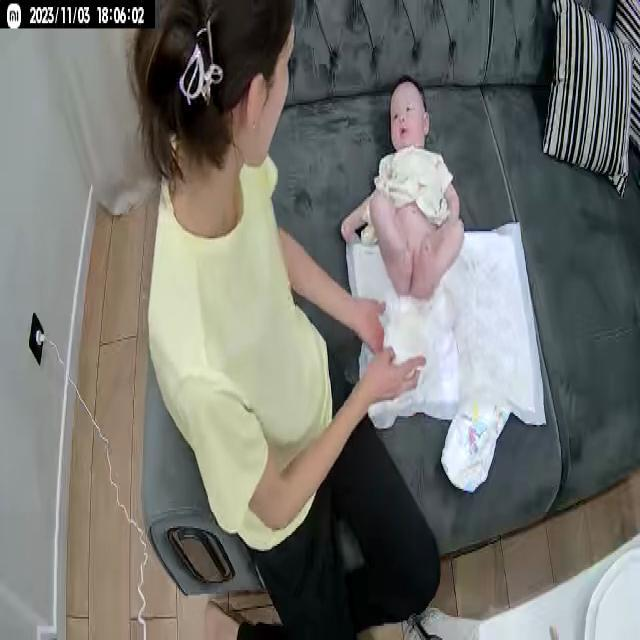baby: (338, 76, 468, 312)
